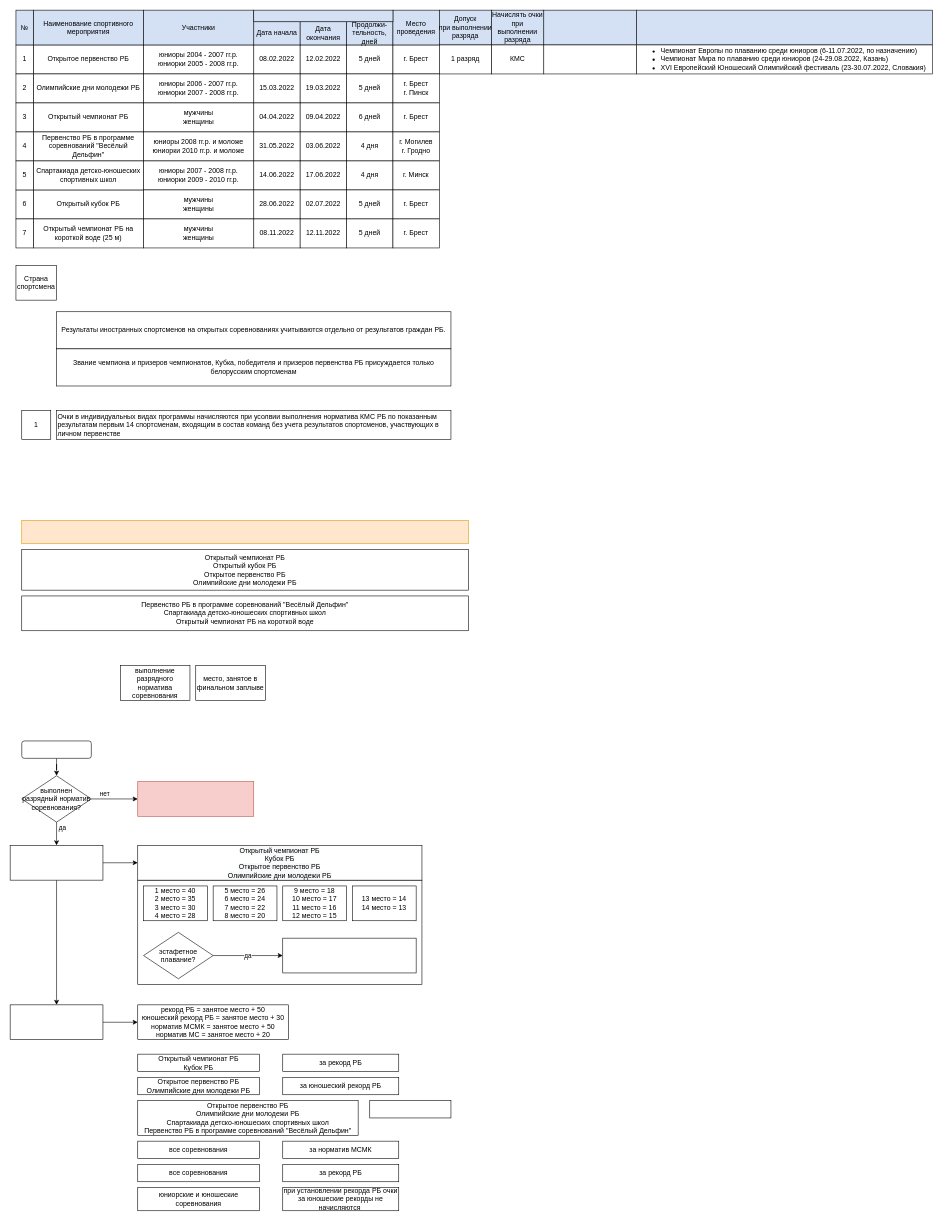
This 943x1221 diagram has some shape labels left out. The shapes that lost their labels are listed below. From the top down, each one's box as (x1, y1, x2, y2) in pixels, then its label:
(253, 10, 393, 22): Сроки проведения
(543, 10, 637, 45): Заплывы
(636, 10, 932, 45): Отборочные для участия
(543, 44, 637, 74): предварительные полуфинальные финальные
(21, 520, 468, 544): РЕСПУБЛИКАНСКИЕ СОРЕВНОВАНИЯ
(21, 740, 91, 758): Начало
(137, 781, 254, 816): Очки не начисляются
(10, 845, 103, 880): Начислить основные очки
(282, 938, 416, 973): Применить коэффициент - 2
(10, 1004, 103, 1040): Начислить дополнительные очки
(369, 1100, 451, 1118): за норматив МС
